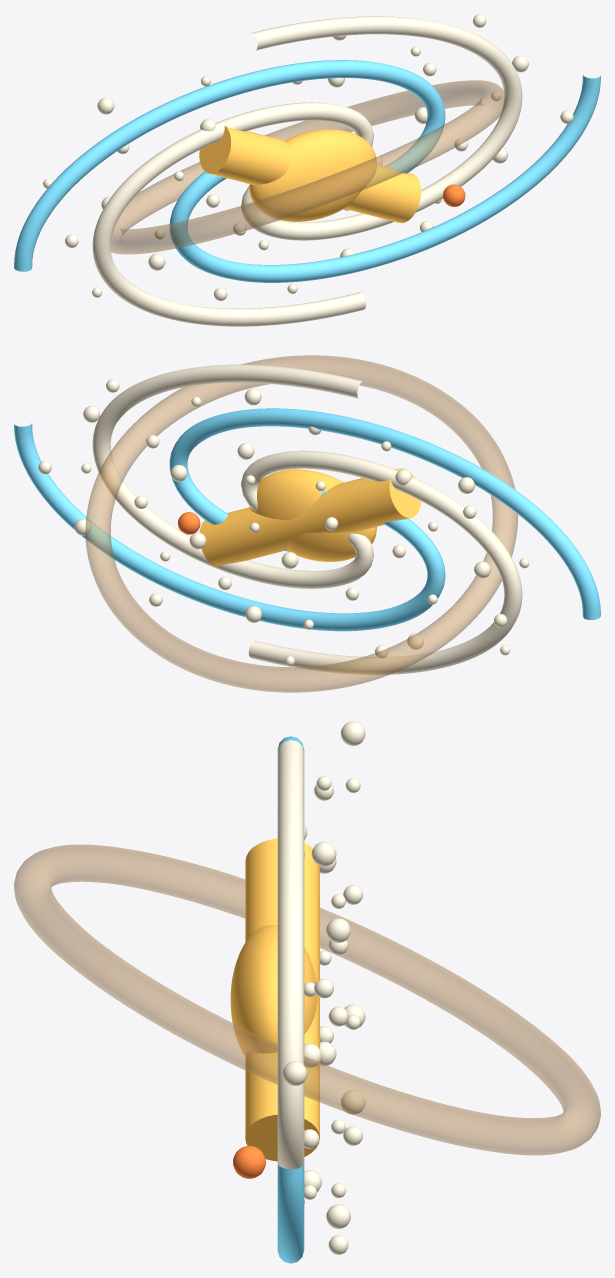
The model's file is space-p1-milky-way.glb.
3 views of the same model, one above another, from view 1: azimuth 30°, elevation 25°; view 2: azimuth 150°, elevation 25°; view 3: azimuth 270°, elevation 25° (orthographic). The views are drawn at different scales.
Visible parts, largest first — view 1: milky-way-thin-dust-lane-ring, milky-way-barred-spiral-arm-0, milky-way-barred-spiral-arm-3, milky-way-barred-spiral-arm-2, milky-way-barred-spiral-arm-1, milky-way-yellow-central-bulge, milky-way-central-bar; view 2: milky-way-thin-dust-lane-ring, milky-way-barred-spiral-arm-0, milky-way-barred-spiral-arm-2, milky-way-barred-spiral-arm-3, milky-way-barred-spiral-arm-1, milky-way-central-bar, milky-way-yellow-central-bulge; view 3: milky-way-thin-dust-lane-ring, milky-way-barred-spiral-arm-2, milky-way-central-bar, milky-way-yellow-central-bulge, milky-way-barred-spiral-arm-1, sun-position-marker-in-orion-arm.
Boxes of the visible parts, <box> form: milky-way-thin-dust-lane-ring: <box>110,80,506,254</box>; milky-way-barred-spiral-arm-0: <box>92,102,374,326</box>; milky-way-barred-spiral-arm-3: <box>14,60,445,271</box>; milky-way-barred-spiral-arm-2: <box>240,16,522,240</box>; milky-way-barred-spiral-arm-1: <box>169,75,600,282</box>; milky-way-yellow-central-bulge: <box>249,129,376,221</box>; milky-way-central-bar: <box>199,126,421,223</box>; milky-way-thin-dust-lane-ring: <box>85,355,518,692</box>; milky-way-barred-spiral-arm-0: <box>241,450,522,674</box>; milky-way-barred-spiral-arm-2: <box>92,364,374,588</box>; milky-way-barred-spiral-arm-3: <box>169,408,600,619</box>; milky-way-barred-spiral-arm-1: <box>14,423,445,631</box>; milky-way-central-bar: <box>199,468,421,566</box>; milky-way-yellow-central-bulge: <box>249,469,376,561</box>; milky-way-thin-dust-lane-ring: <box>14,844,600,1155</box>; milky-way-barred-spiral-arm-2: <box>277,740,304,1169</box>; milky-way-central-bar: <box>245,838,319,1161</box>; milky-way-yellow-central-bulge: <box>230,925,317,1056</box>; milky-way-barred-spiral-arm-1: <box>277,1163,304,1263</box>; sun-position-marker-in-orion-arm: <box>233,1145,265,1178</box>.
Size of what is drawn, in the model's own units: 2.38 by 1.18 by 1.41.
